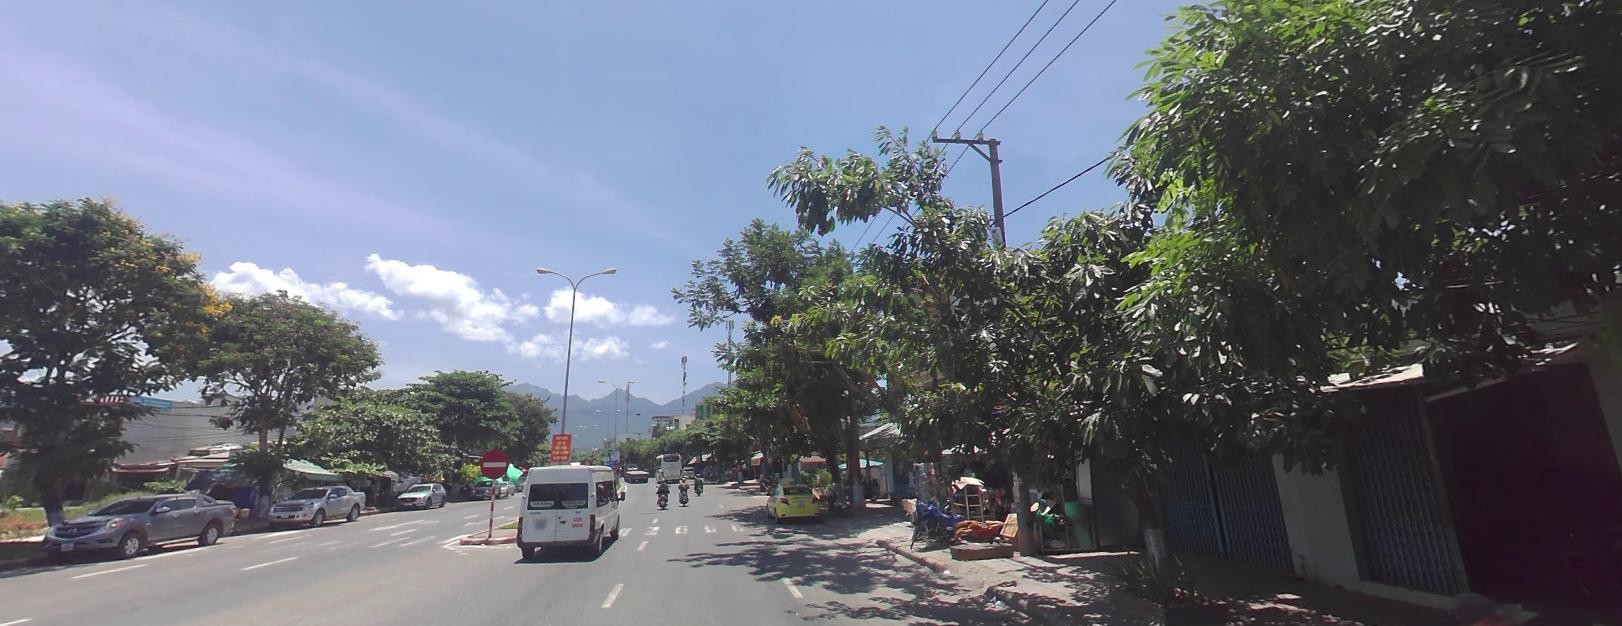Cam nguoc chieu: (480, 448, 508, 477), (480, 448, 507, 478), (480, 448, 507, 476)
